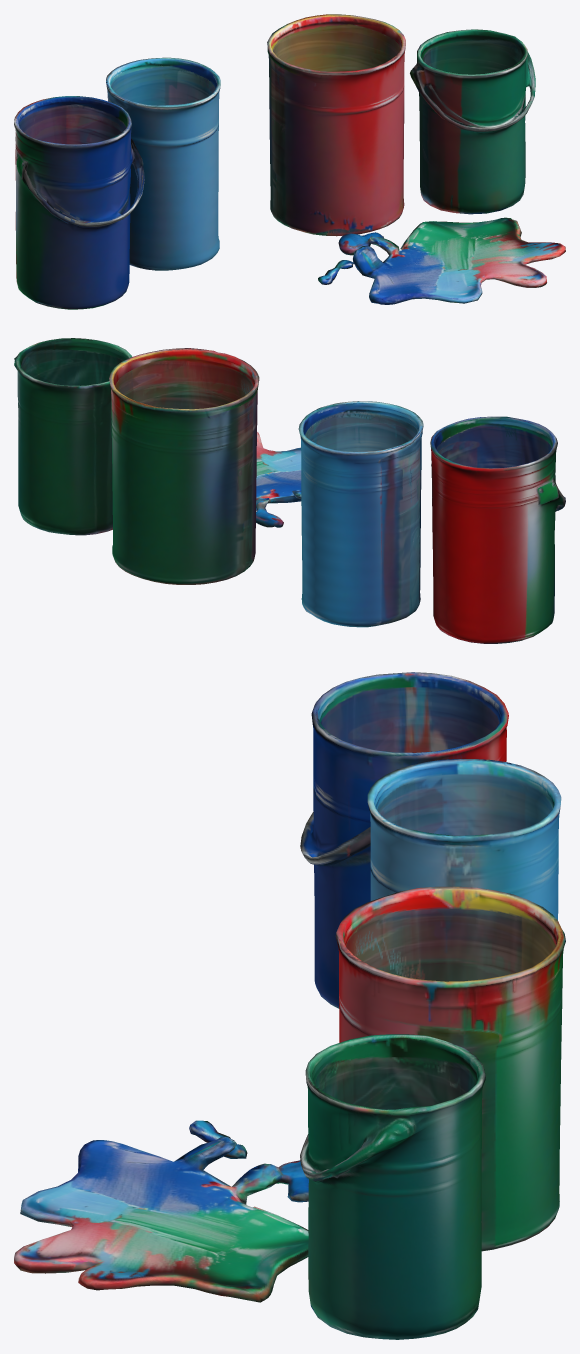
File: PaintPots.fbx
3 views of the same model, one above another, from view 1: azimuth 30°, elevation 25°; view 2: azimuth 150°, elevation 25°; view 3: azimuth 270°, elevation 25° (orthographic). The views are drawn at different scales.
Parts seen in each view (by area): view 1: Mesh1.0; view 2: Mesh1.0; view 3: Mesh1.0.
Part boxes in pixels (x1,y1,x2,y2): Mesh1.0: (14, 14, 565, 309); Mesh1.0: (14, 338, 565, 643); Mesh1.0: (14, 672, 565, 1339).
Size of the model in its own units: 200 by 63.56 by 115.
Materials: 1 (1 with a texture image).
